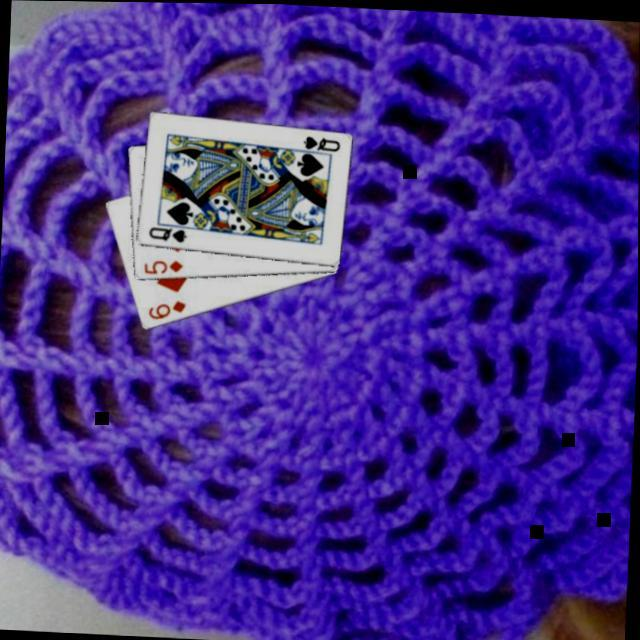5D: (140, 255, 185, 279)
6D: (143, 295, 188, 324)
QS: (144, 224, 188, 246), (298, 132, 342, 154)
